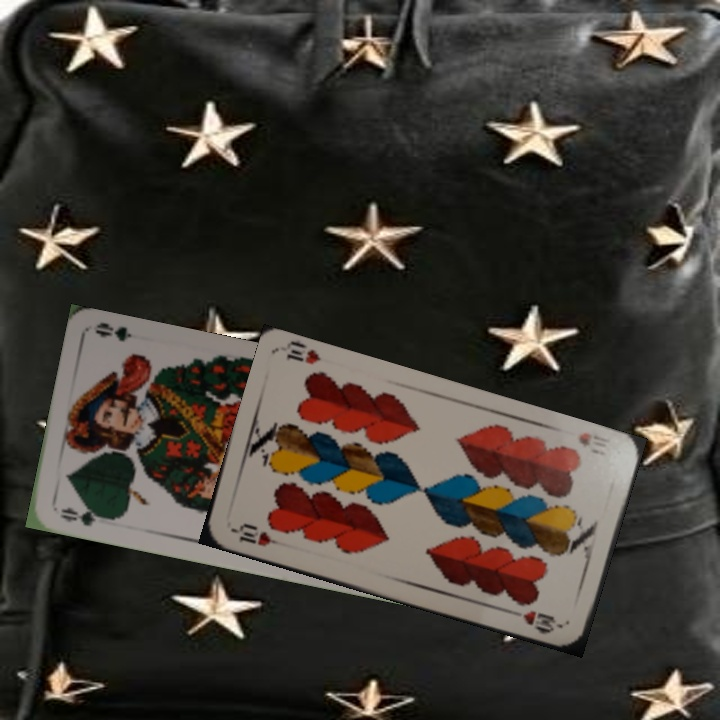GO: (55, 503, 112, 529)
H10: (228, 519, 286, 550), (574, 428, 609, 458)
